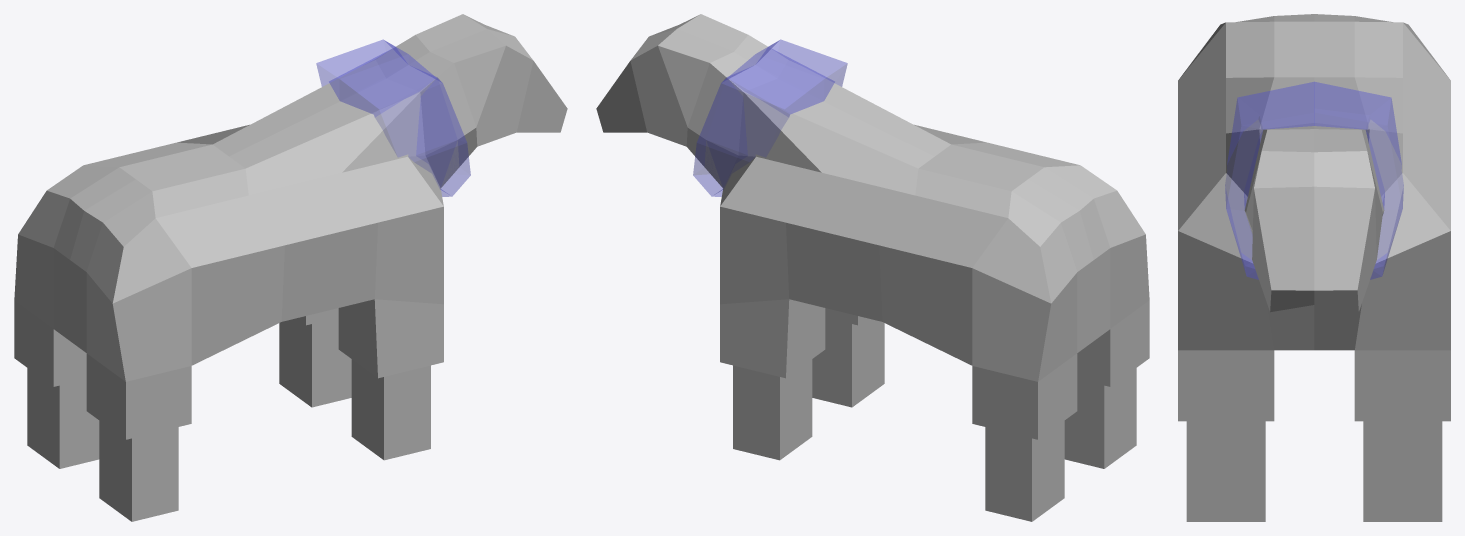
Rendered from sheep.glb.
3 views of the same model, side by side, from view 1: azimuth 30°, elevation 25°; view 2: azimuth 150°, elevation 25°; view 3: azimuth 270°, elevation 25° (orthographic). The views are drawn at different scales.
Visible parts, largest first — view 1: sheep, collar; view 2: sheep, collar; view 3: sheep, collar.
Boxes of the visible parts, box(x1,y1,x2,y2) form: sheep: box(14, 14, 567, 521); collar: box(316, 39, 470, 196); sheep: box(596, 14, 1149, 521); collar: box(693, 39, 847, 196); sheep: box(1178, 14, 1450, 521); collar: box(1225, 81, 1403, 279).
Size of the model in its own units: 0.804 by 0.5632 by 0.3204.
